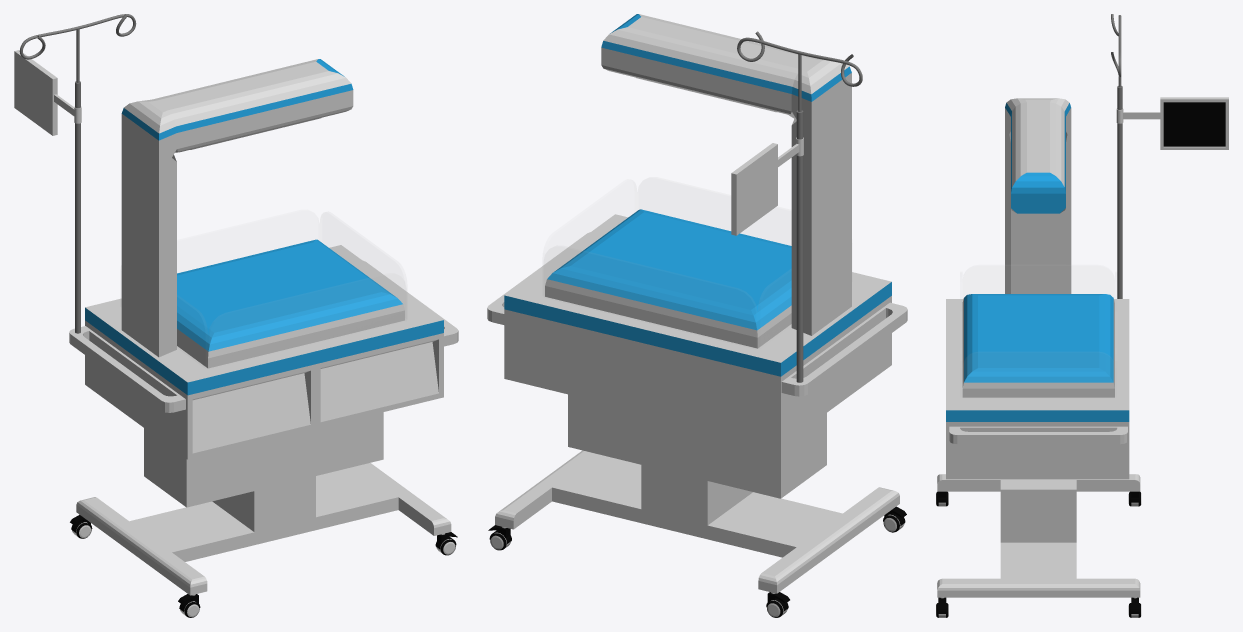
The model's file is BSR02.fbx.
3 views of the same model, side by side, from view 1: azimuth 30°, elevation 25°; view 2: azimuth 150°, elevation 25°; view 3: azimuth 270°, elevation 25° (orthographic). The views are drawn at different scales.
Parts seen in each view (by area): view 1: BSR02; view 2: BSR02; view 3: BSR02.
Boxes of the visible parts, left/top/right/bottom form: BSR02: left=14, top=14, right=458, bottom=617; BSR02: left=487, top=14, right=907, bottom=617; BSR02: left=936, top=14, right=1228, bottom=617.
Size of the model in its own units: 141 by 203 by 116.
